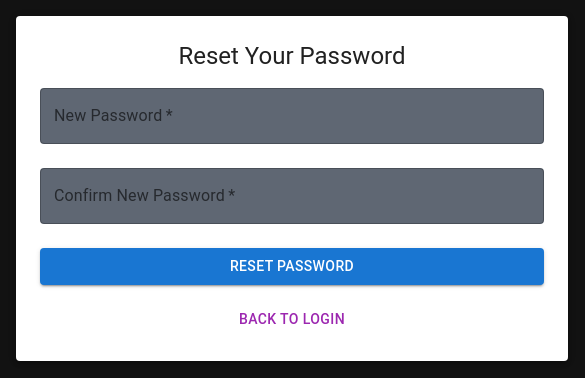
ResetPassword Component › successfully resets password and redirects to login
The image size is (585, 378).
Type matching valid passwords
Type "validpassword123" into the password field labelled "New Password *".
click(292, 116); type("validpassword123")  # box [40,88,544,144]
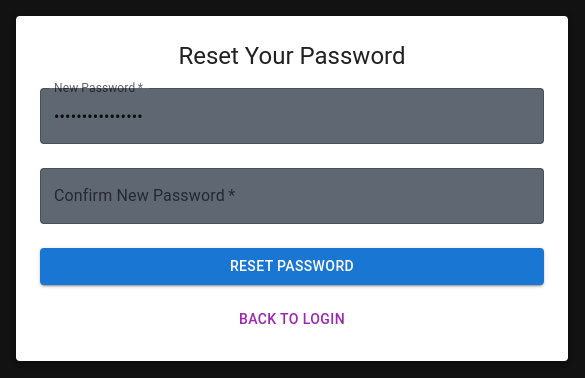
Type "validpassword123" into the password field labelled "Confirm New Password *".
click(292, 196); type("validpassword123")  # box [40,168,544,224]
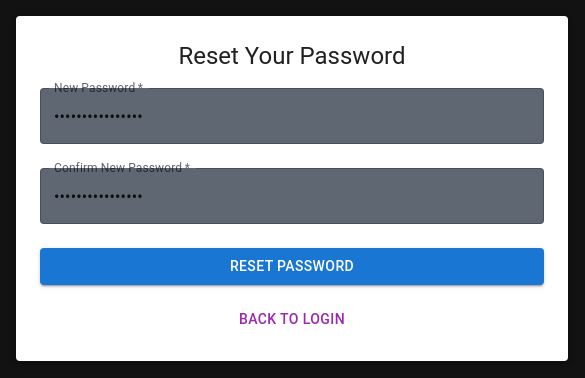
Submit the form
Click the button "Reset Password".
click(292, 266)  # box [40,248,544,284]
Wait 3000 ms
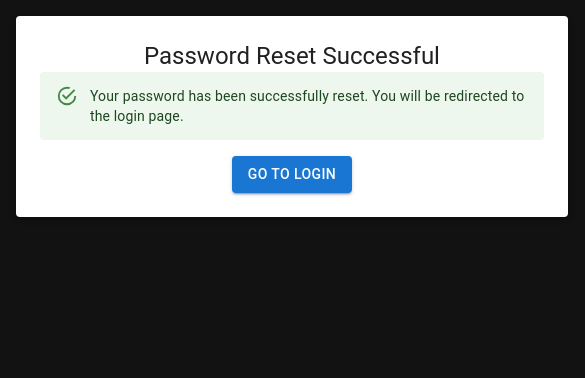
expect the heading "Password Reset Successful" is shown: met, box [144,42,440,70]
